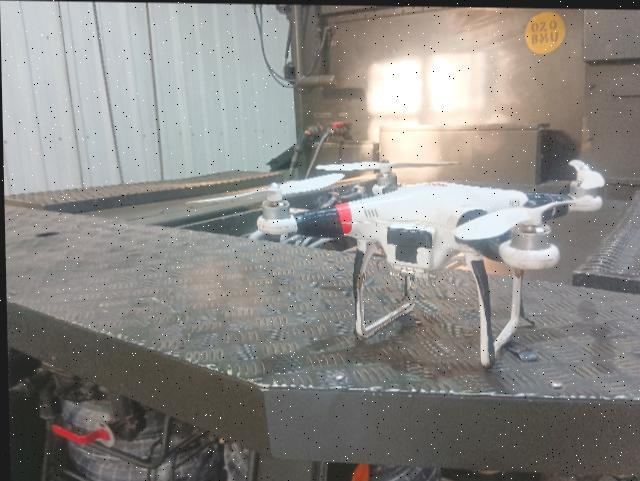drone: (253, 153, 610, 371)
